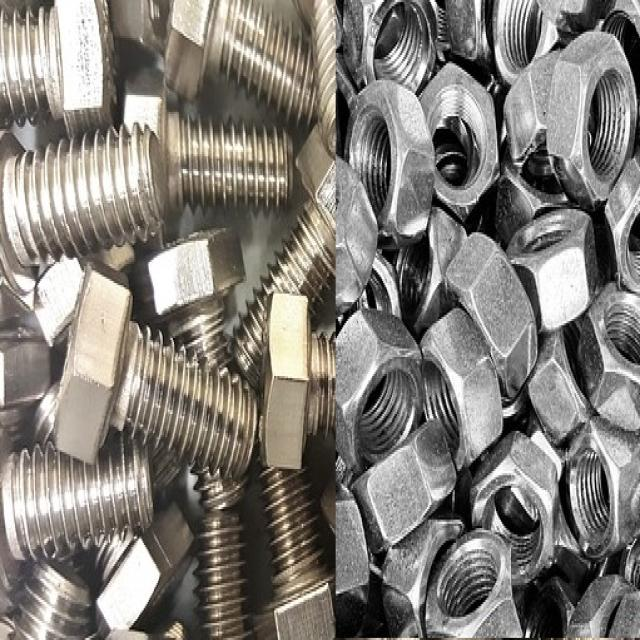Logam: (28, 31, 612, 632)
